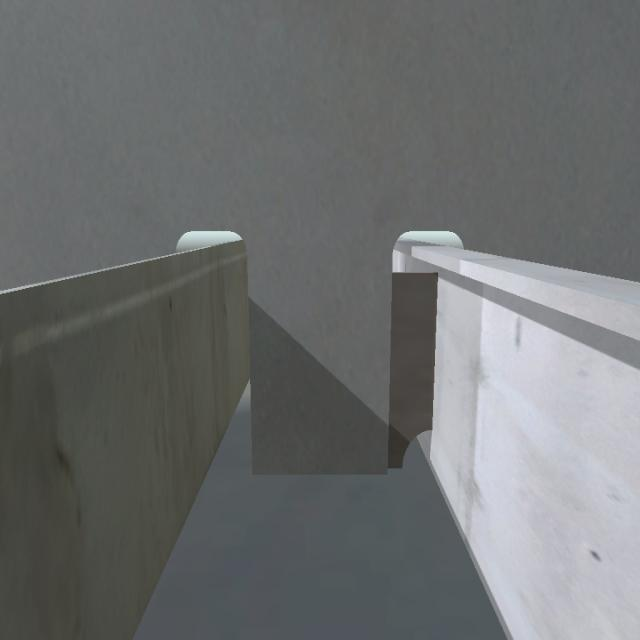fillet_hole: (401, 422, 433, 468)
fillet_yong_jeop_jang: (247, 460, 404, 488)
longi_yong_jeop_jang: (429, 261, 441, 431)
plate_behind: (393, 273, 436, 469)
